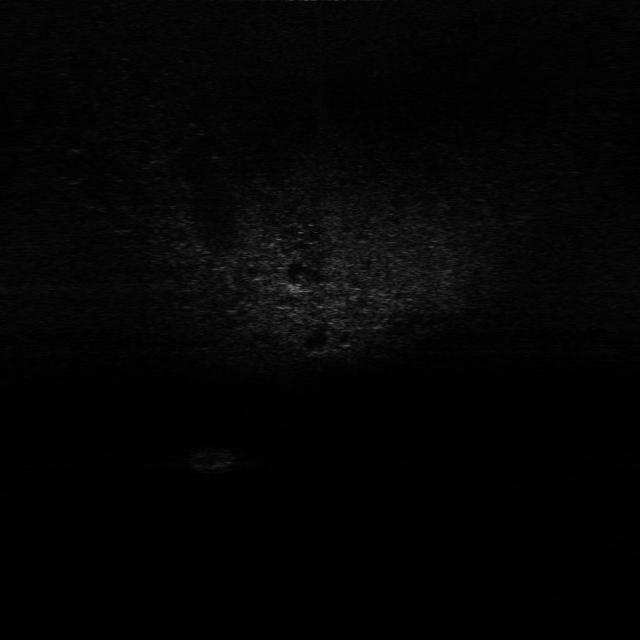circle cage: (188, 439, 243, 477)
